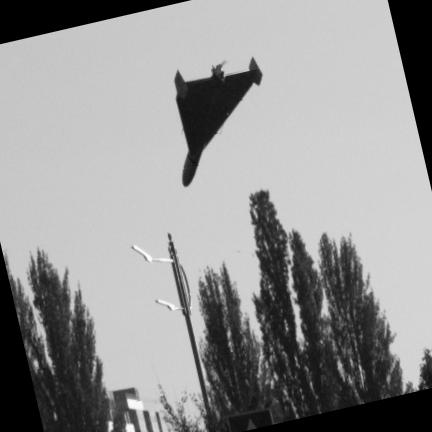Shahed: (174, 59, 261, 186)
